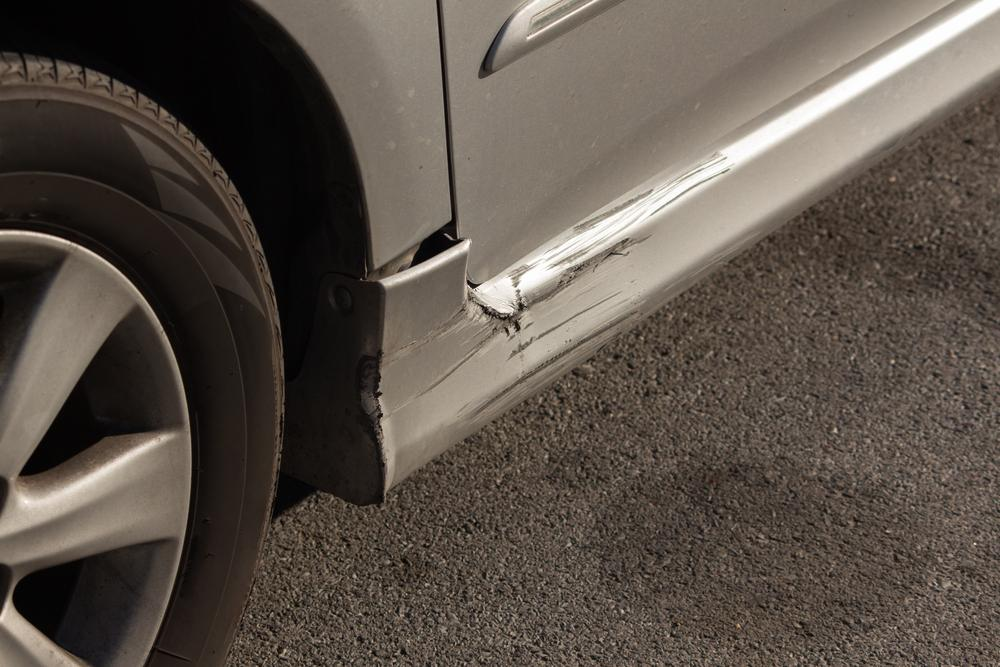scratch: (380, 150, 744, 419)
